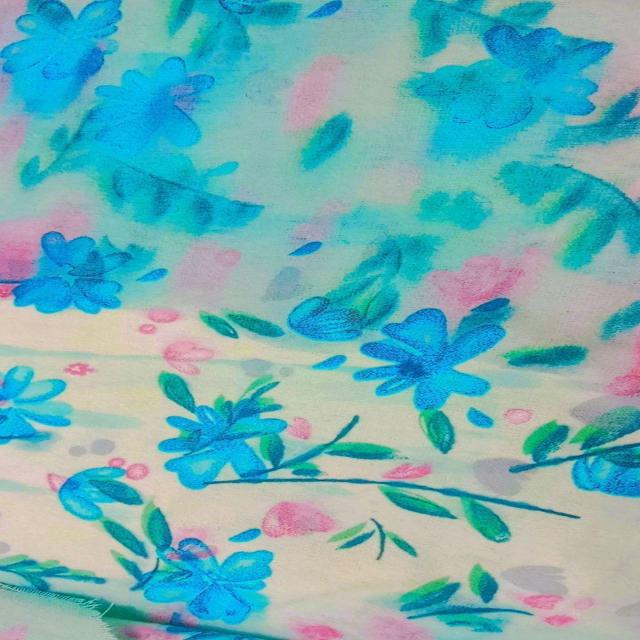baekra: (7, 0, 633, 322), (0, 554, 375, 632)
